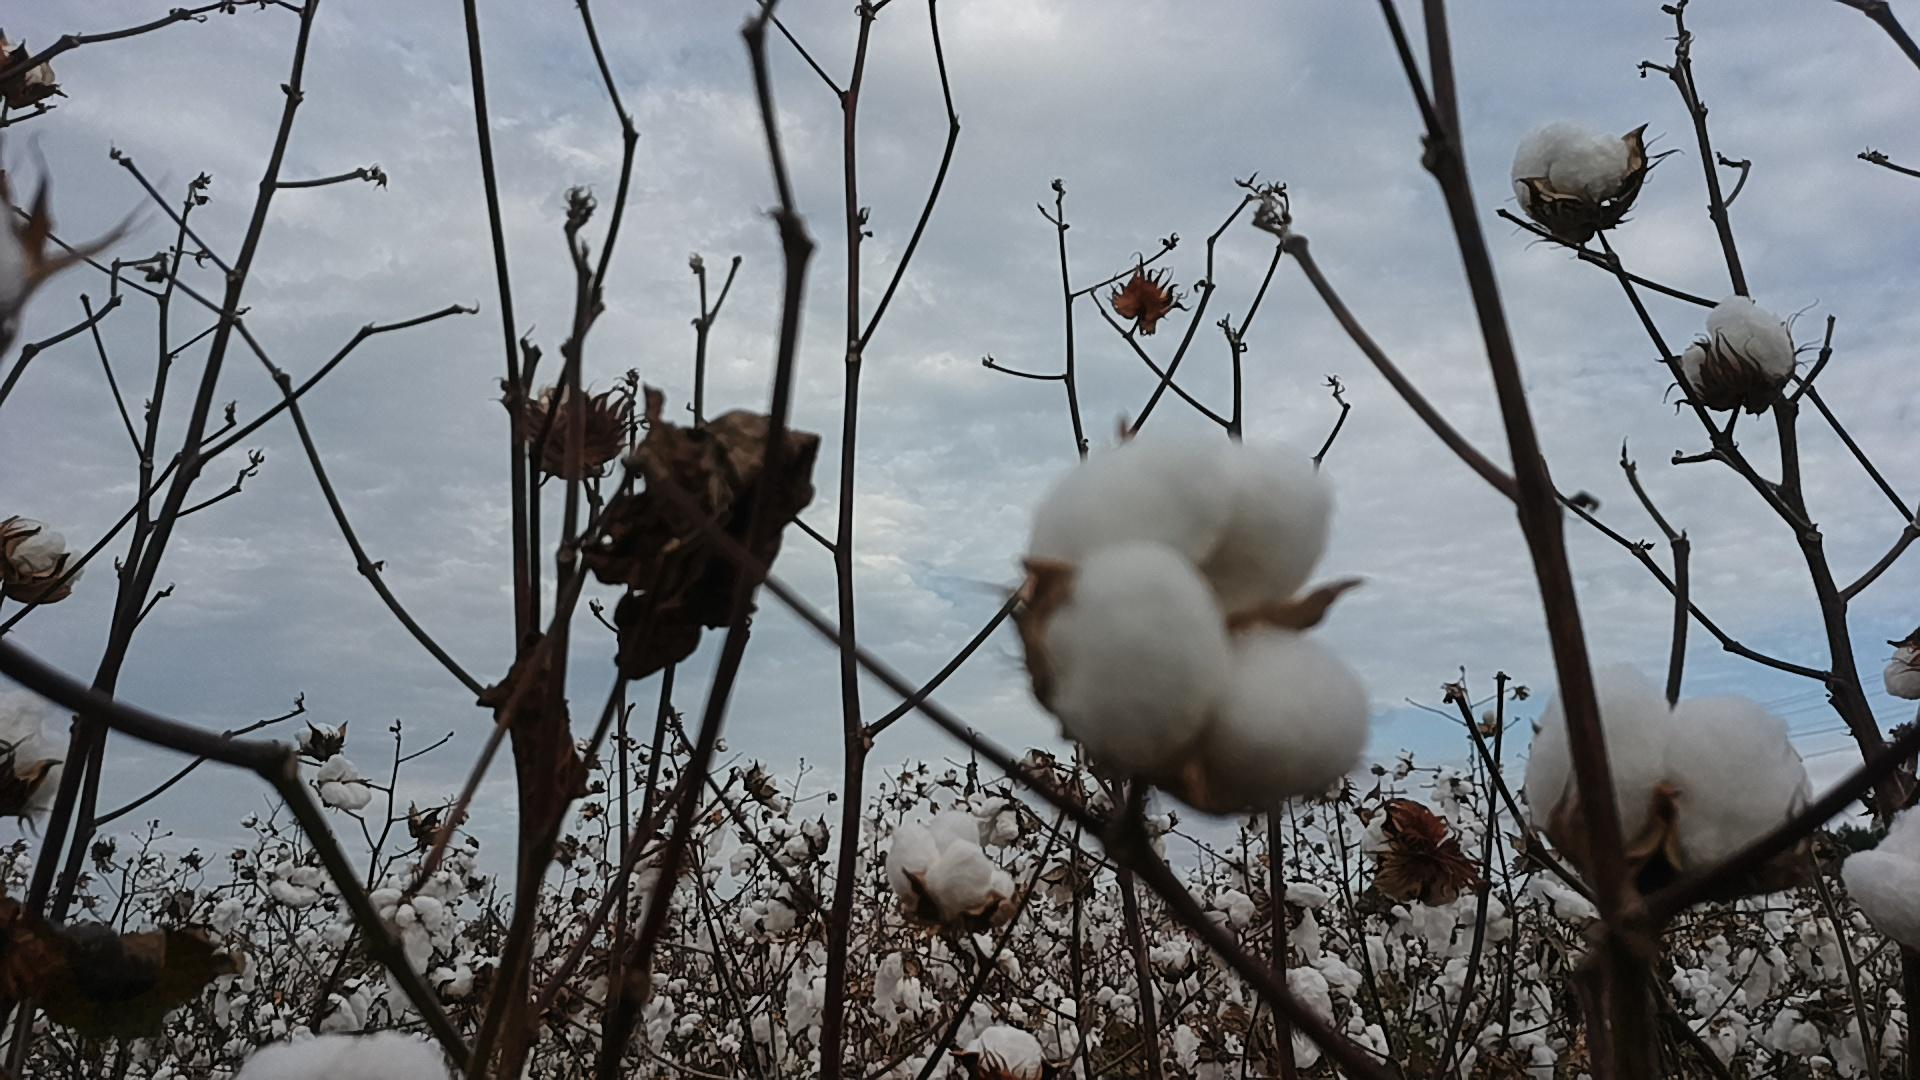cotton_ready: (1026, 423, 1370, 820), (1522, 661, 1818, 895), (887, 808, 1019, 924), (1515, 116, 1640, 233), (1676, 295, 1797, 401), (1841, 811, 1920, 952), (237, 1030, 454, 1080), (0, 696, 70, 815), (0, 516, 88, 597), (1356, 800, 1449, 877), (1274, 963, 1331, 1068), (956, 1021, 1048, 1080), (1888, 628, 1920, 705)
